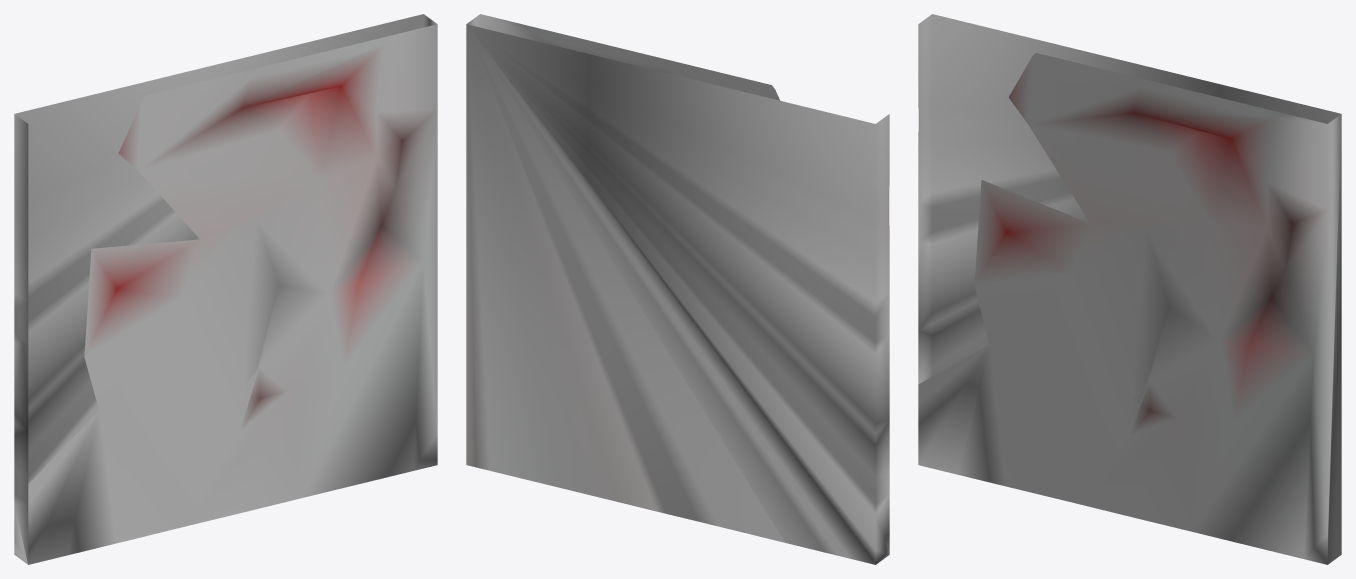
The model's file is SM_FA_Factory_W340_H350.fbx.
The picture shows the model from 3 angles, left to right: view 1: azimuth 30°, elevation 25°; view 2: azimuth 150°, elevation 25°; view 3: azimuth 330°, elevation 25°; orthographic projection.
Visible parts, largest first — view 1: SM_FA_Factory_W340_H350; view 2: SM_FA_Factory_W340_H350; view 3: SM_FA_Factory_W340_H350.
Boxes of the visible parts, bbox=[...] form: SM_FA_Factory_W340_H350: bbox=[14, 14, 437, 564]; SM_FA_Factory_W340_H350: bbox=[466, 14, 889, 564]; SM_FA_Factory_W340_H350: bbox=[918, 14, 1341, 564].
Size of the model in its own units: 340 by 20 by 350.
